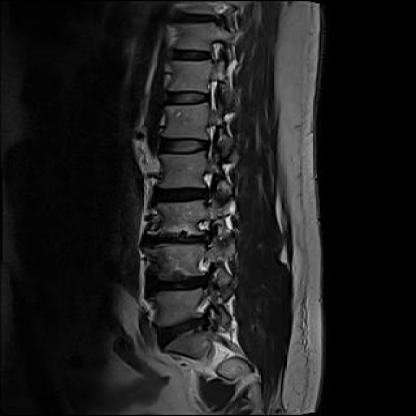Disc Bulgerotation: (137, 217, 246, 265), (143, 308, 238, 354)
